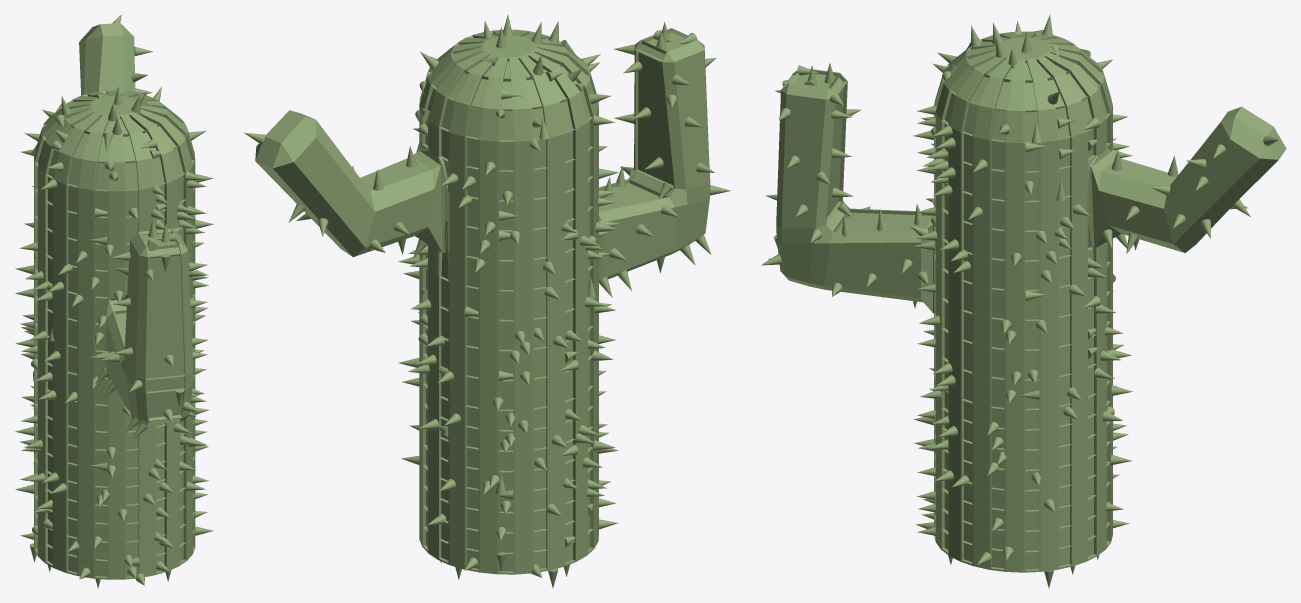
Rendered from cactus.fbx.
3 renders of one model, left to right at view 1: azimuth 30°, elevation 25°; view 2: azimuth 150°, elevation 25°; view 3: azimuth 270°, elevation 25°, orthographic. The views are drawn at different scales.
Visible parts, largest first — view 1: Cactus; view 2: Cactus; view 3: Cactus.
Boxes of the visible parts, x1,y1,x2,y2 form: Cactus: [15, 14, 213, 588]; Cactus: [244, 15, 730, 587]; Cactus: [761, 14, 1286, 587].
Size of the model in its own units: 311 by 648 by 588.
